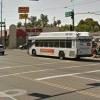Bus: (21, 24, 96, 62)
